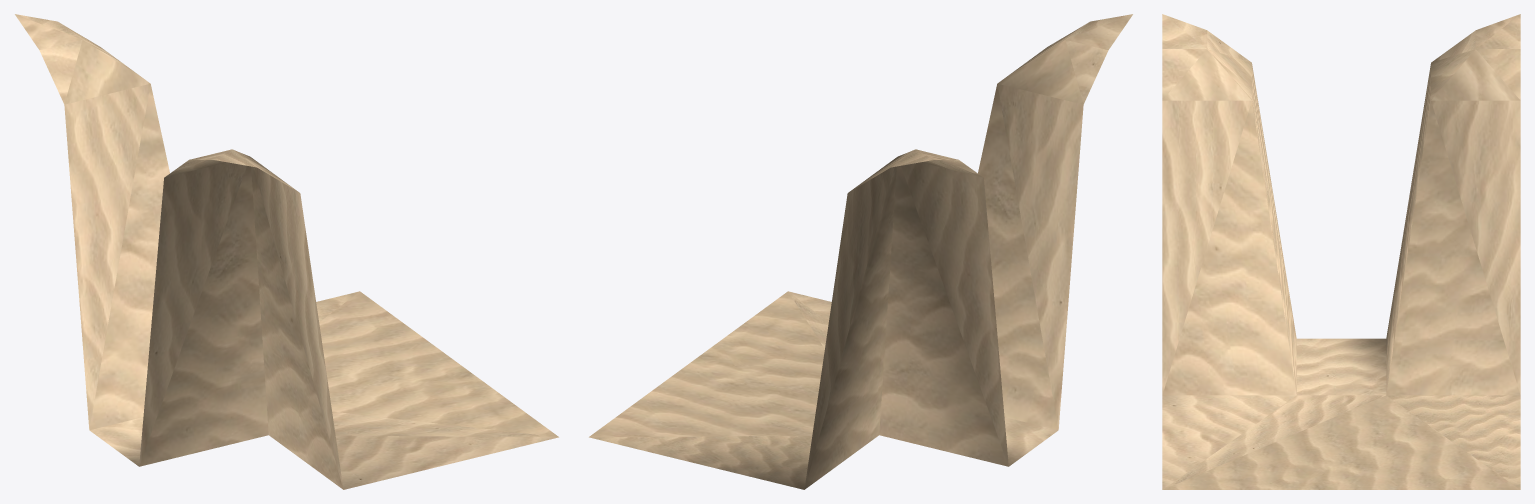
The model's file is Sand4c.obj.
3 views of the same model, side by side, from view 1: azimuth 30°, elevation 25°; view 2: azimuth 150°, elevation 25°; view 3: azimuth 270°, elevation 25° (orthographic). The views are drawn at different scales.
Visible parts, largest first — view 1: Grid_Grid.026_Grid_Grid.015; view 2: Grid_Grid.026_Grid_Grid.015; view 3: Grid_Grid.026_Grid_Grid.015.
Boxes of the visible parts, <box> form: Grid_Grid.026_Grid_Grid.015: <box>15,14,558,489</box>; Grid_Grid.026_Grid_Grid.015: <box>589,14,1132,489</box>; Grid_Grid.026_Grid_Grid.015: <box>1162,14,1520,489</box>.
Size of the model in its own units: 1 by 1 by 1.
